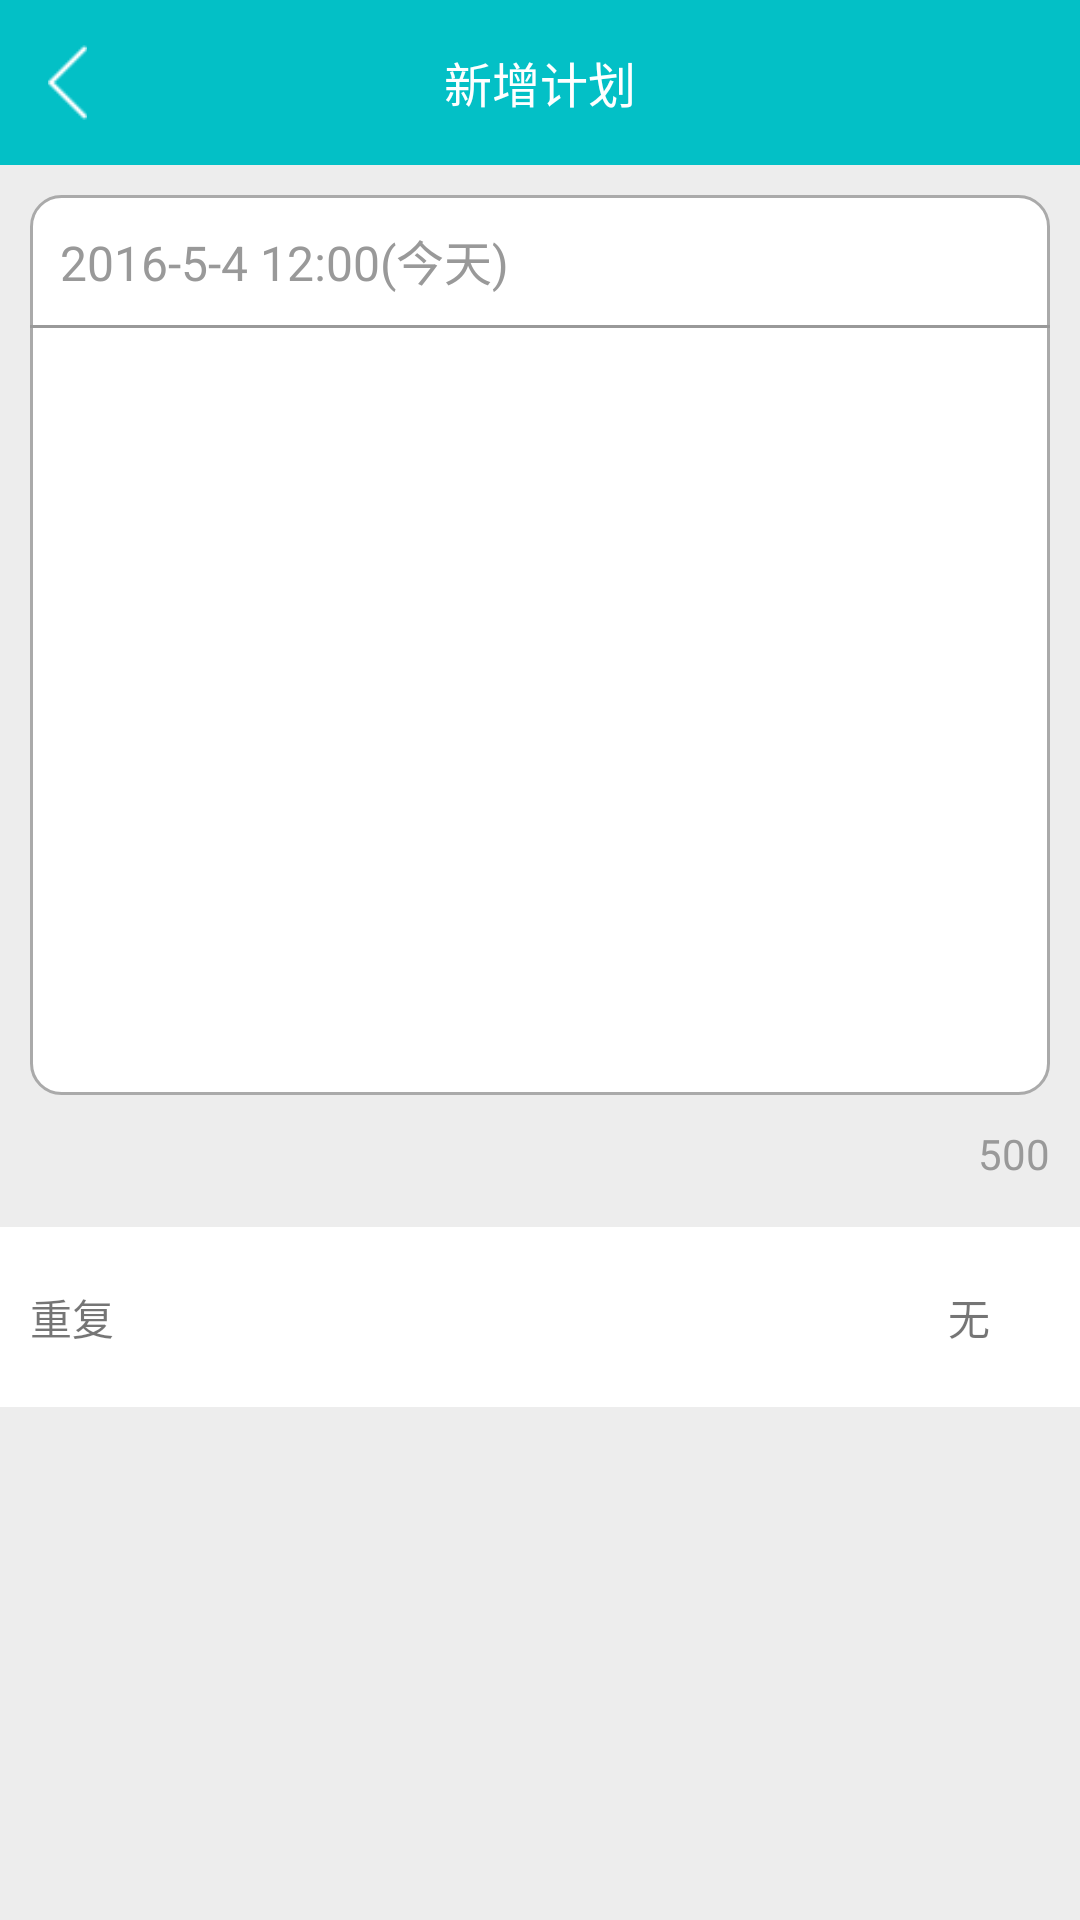

Screen size 1080px×1920px. Icon name, then its center in pixels as (x=x, y=y):
back: (x=67, y=82)
